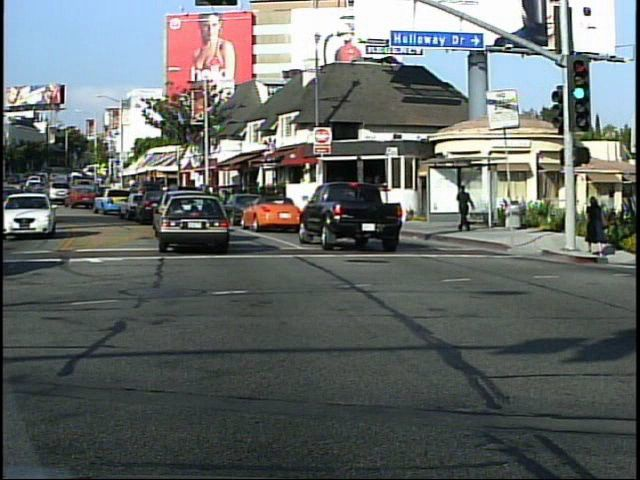person: (583, 191, 608, 257), (454, 181, 475, 236)
